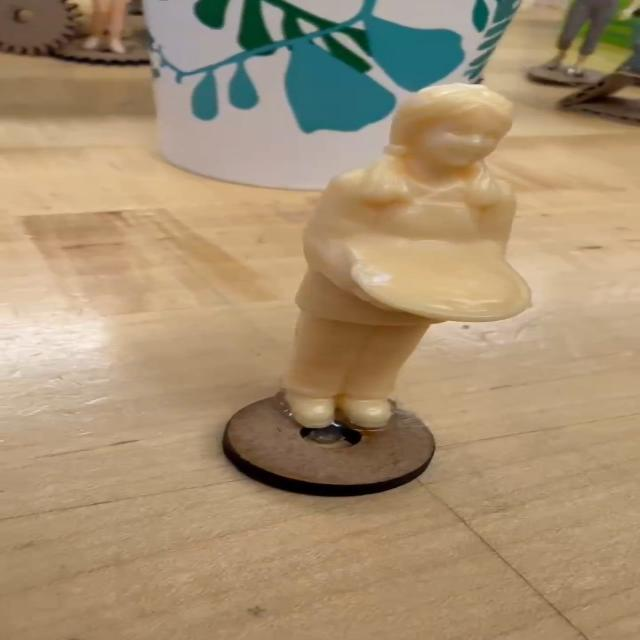Unauthorized: (286, 85, 531, 434)
